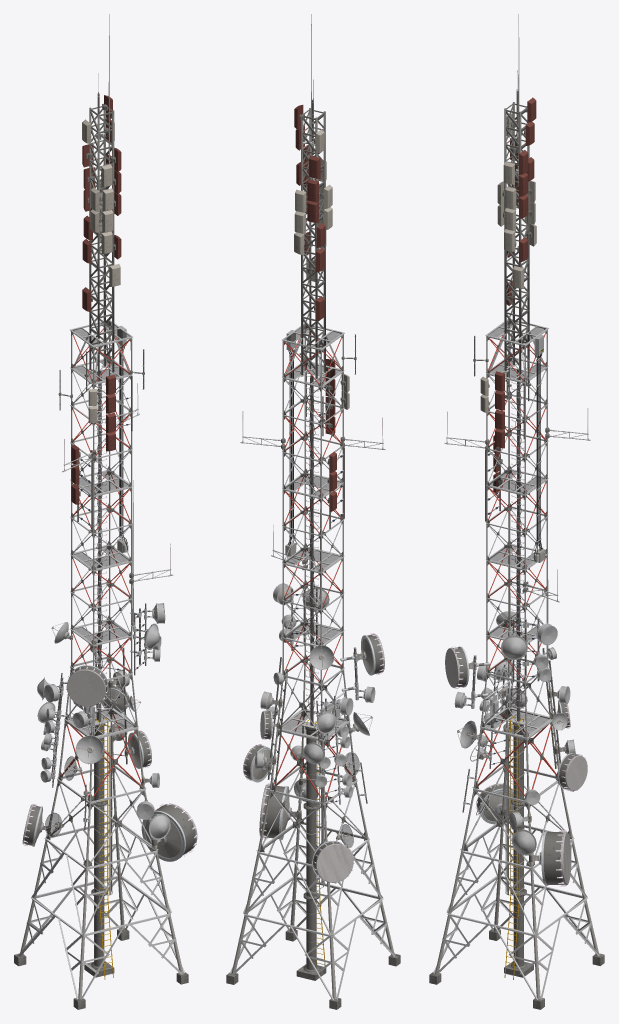
Rendered from Tower 1 new.glb.
3 views of the same model, side by side, from view 1: azimuth 30°, elevation 25°; view 2: azimuth 150°, elevation 25°; view 3: azimuth 330°, elevation 25° (orthographic).
Visible parts, largest first — view 1: Metal connectors 2, Aluminium plates, Lightning Arrestor and other meshes, Main antenna, Red side supports, Grids, White rods, Metal side supports, Red rods, Aluminium rings, Cloth covers, Plastic cables (+4 smaller); view 2: Metal connectors 2, Aluminium plates, Lightning Arrestor and other meshes, Main antenna, Red side supports, Grids, White rods, Red rods, Metal side supports, Cloth covers, Aluminium rings, Plastic cables (+3 smaller); view 3: Metal connectors 2, Aluminium plates, Lightning Arrestor and other meshes, Main antenna, Red side supports, Metal side supports, White rods, Grids, Red rods, Cloth covers, Plastic cables, Aluminium rings (+4 smaller).
Part boxes in pixels (bbox=[...]): Metal connectors 2: bbox=[24, 94, 196, 968]; Aluminium plates: bbox=[18, 96, 195, 999]; Lightning Arrestor and other meshes: bbox=[20, 14, 183, 998]; Main antenna: bbox=[37, 325, 170, 844]; Red side supports: bbox=[71, 95, 121, 504]; Grids: bbox=[45, 321, 133, 836]; White rods: bbox=[50, 362, 151, 866]; Metal side supports: bbox=[82, 119, 157, 848]; Red rods: bbox=[60, 322, 143, 801]; Aluminium rings: bbox=[32, 93, 185, 861]; Cloth covers: bbox=[22, 669, 197, 851]; Plastic cables: bbox=[96, 345, 127, 704]; Metal connectors 2: bbox=[244, 100, 383, 971]; Aluminium plates: bbox=[230, 102, 396, 999]; Lightning Arrestor and other meshes: bbox=[231, 14, 394, 999]; Main antenna: bbox=[255, 330, 375, 820]; Red side supports: bbox=[294, 105, 336, 511]; Grids: bbox=[282, 325, 358, 846]; White rods: bbox=[259, 364, 364, 851]; Red rods: bbox=[271, 327, 353, 802]; Metal side supports: bbox=[268, 129, 349, 820]; Cloth covers: bbox=[243, 634, 384, 882]; Aluminium rings: bbox=[250, 99, 375, 879]; Plastic cables: bbox=[288, 350, 315, 709]; Metal connectors 2: bbox=[453, 91, 576, 968]; Aluminium plates: bbox=[433, 93, 600, 999]; Lightning Arrestor and other meshes: bbox=[435, 14, 598, 999]; Main antenna: bbox=[454, 335, 575, 864]; Red side supports: bbox=[493, 97, 536, 492]; Metal side supports: bbox=[480, 113, 559, 864]; White rods: bbox=[463, 360, 564, 866]; Grids: bbox=[479, 320, 549, 813]; Red rods: bbox=[477, 323, 557, 795]; Cloth covers: bbox=[445, 648, 587, 884]; Plastic cables: bbox=[515, 353, 542, 702]; Aluminium rings: bbox=[458, 90, 575, 885].
Size of the model in its own units: 7.56 by 53.12 by 6.67.
16 materials, 11 textured.
